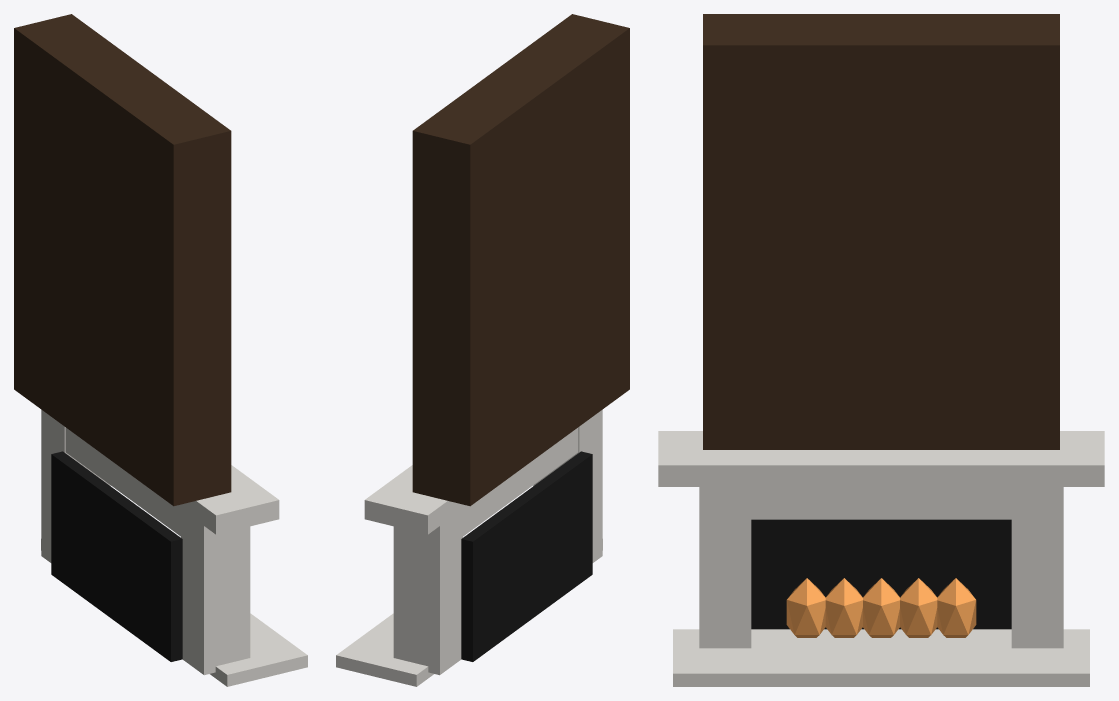
The model's file is SM_Mob_Somine.fbx.
The picture shows the model from 3 angles, left to right: view 1: azimuth 30°, elevation 25°; view 2: azimuth 150°, elevation 25°; view 3: azimuth 270°, elevation 25°; orthographic projection. The views are drawn at different scales.
Parts seen in each view (by area): view 1: Mob_Somine; view 2: Mob_Somine; view 3: Mob_Somine.
Part boxes in pixels (left/top/right/bottom): Mob_Somine: left=14, top=14, right=307, bottom=686; Mob_Somine: left=336, top=14, right=629, bottom=686; Mob_Somine: left=658, top=14, right=1104, bottom=686.
Size of the model in its own units: 105 by 451 by 300.
